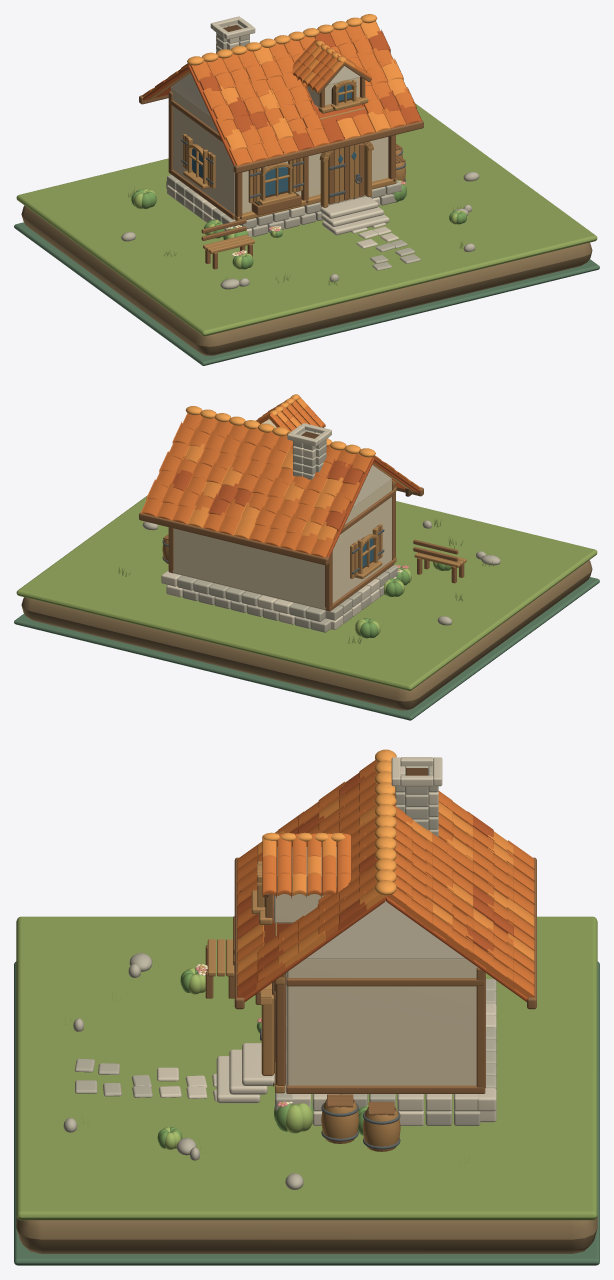
Rendered from cottage-study.glb.
The picture shows the model from 3 angles, top to bottom: view 1: azimuth 30°, elevation 25°; view 2: azimuth 150°, elevation 25°; view 3: azimuth 270°, elevation 25°; orthographic projection. The views are drawn at different scales.
Visible parts, largest first — view 1: Cottage_ground, Cottage_clay, Cottage_earth, Cottage_oak, Cottage_oak_light, Cottage_rim, Cottage_plaster, Cottage_stone, Cottage_clay_dark, Cottage_stone_light, Cottage_clay_light, Cottage_clay_edge (+5 smaller); view 2: Cottage_ground, Cottage_clay, Cottage_earth, Cottage_plaster, Cottage_rim, Cottage_stone, Cottage_oak, Cottage_clay_light, Cottage_clay_dark, Cottage_stone_light, Cottage_oak_light, Cottage_clay_edge (+3 smaller); view 3: Cottage_ground, Cottage_clay, Cottage_plaster, Cottage_earth, Cottage_rim, Cottage_stone_light, Cottage_oak, Cottage_stone, Cottage_clay_light, Cottage_oak_light, Cottage_clay_dark, Cottage_plaster_light (+3 smaller).
Part boxes in pixels (x1,y1,x2,y2): Cottage_ground: (16, 103, 597, 336); Cottage_clay: (142, 25, 416, 165); Cottage_earth: (21, 205, 592, 355); Cottage_oak: (139, 63, 423, 269); Cottage_oak_light: (148, 71, 405, 253); Cottage_rim: (14, 222, 599, 365); Cottage_plaster: (171, 77, 388, 214); Cottage_stone: (121, 23, 479, 289); Cottage_clay_dark: (142, 29, 421, 165); Cottage_stone_light: (167, 16, 398, 248); Cottage_clay_light: (151, 21, 408, 150); Cottage_clay_edge: (187, 14, 377, 65); Cottage_ground: (16, 495, 597, 690); Cottage_clay: (141, 398, 420, 557); Cottage_earth: (21, 560, 592, 710); Cottage_plaster: (172, 419, 391, 610); Cottage_rim: (14, 577, 599, 720); Cottage_stone: (142, 430, 500, 632); Cottage_oak: (139, 426, 464, 611); Cottage_clay_light: (183, 394, 411, 540); Cottage_clay_dark: (170, 457, 420, 557); Cottage_stone_light: (161, 423, 396, 629); Cottage_oak_light: (162, 463, 466, 579); Cottage_clay_edge: (185, 394, 375, 457); Cottage_ground: (16, 916, 597, 1220); Cottage_clay: (236, 760, 535, 997); Cottage_plaster: (273, 847, 477, 1085); Cottage_earth: (16, 1216, 597, 1253); Cottage_rim: (14, 961, 599, 1265); Cottage_stone_light: (157, 757, 496, 1125); Cottage_oak: (205, 857, 536, 1115); Cottage_stone: (63, 766, 496, 1189); Cottage_clay_light: (236, 794, 535, 974); Cottage_oak_light: (207, 861, 400, 1151); Cottage_clay_dark: (236, 773, 527, 1001); Cottage_plaster_light: (306, 900, 465, 958).
Size of the model in its own units: 17.12 by 8.51 by 14.12.
